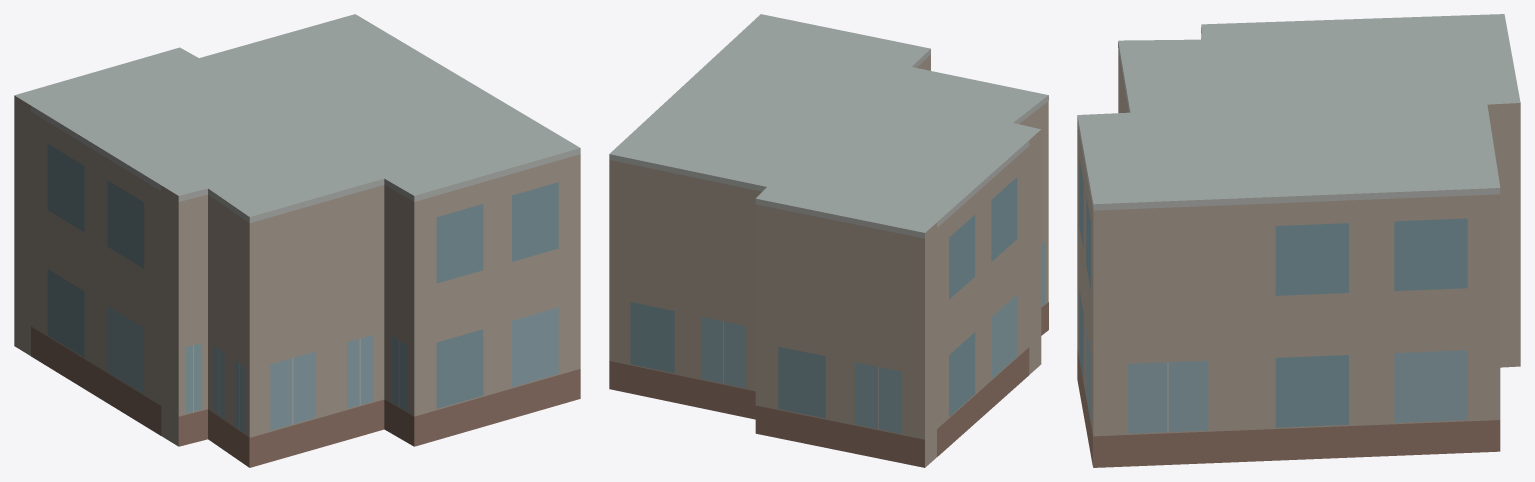
The model's file is survey-upis-32844092.glb.
3 views of the same model, side by side, from view 1: azimuth 30°, elevation 25°; view 2: azimuth 150°, elevation 25°; view 3: azimuth 270°, elevation 25° (orthographic). The views are drawn at different scales.
Parts seen in each view (by area): view 1: survey-upis-32844092.tmp; view 2: survey-upis-32844092.tmp; view 3: survey-upis-32844092.tmp.
Boxes of the visible parts, x1,y1,x2,y2 form: survey-upis-32844092.tmp: [14, 14, 580, 467]; survey-upis-32844092.tmp: [609, 14, 1048, 467]; survey-upis-32844092.tmp: [1077, 14, 1520, 467].
Bounding box in the file's own units: 15.56 × 10.05 × 15.33.
